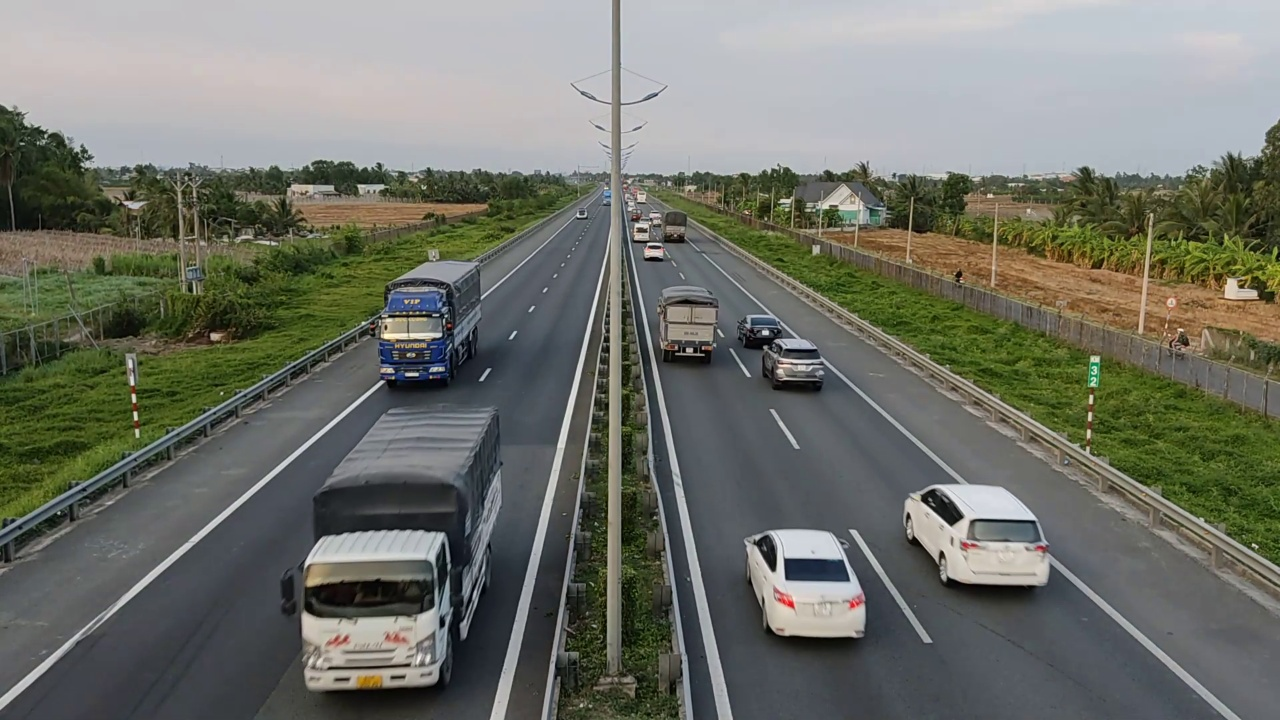bus: (663, 211, 687, 241)
car: (902, 482, 1052, 589), (743, 528, 868, 639), (761, 335, 825, 390), (737, 313, 783, 348), (643, 243, 667, 261)
truck: (279, 403, 505, 693), (376, 258, 483, 387), (653, 282, 720, 370)
